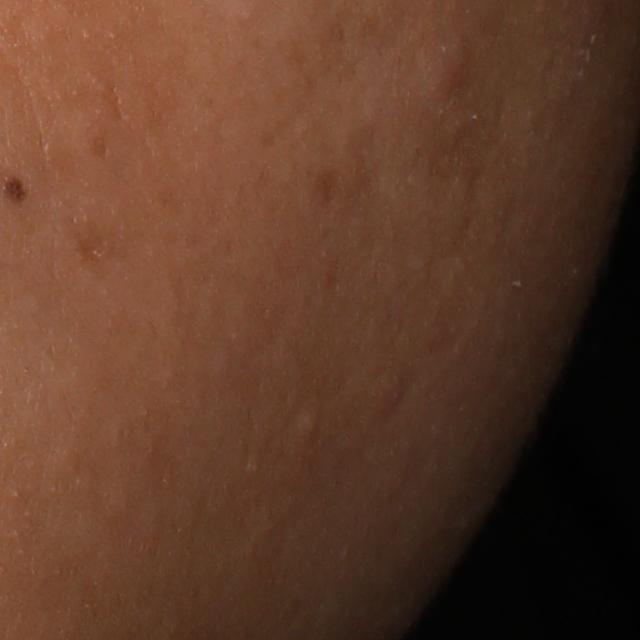comedo: (294, 411, 322, 440)
nevus: (0, 176, 31, 209)
papule: (425, 28, 482, 110)
